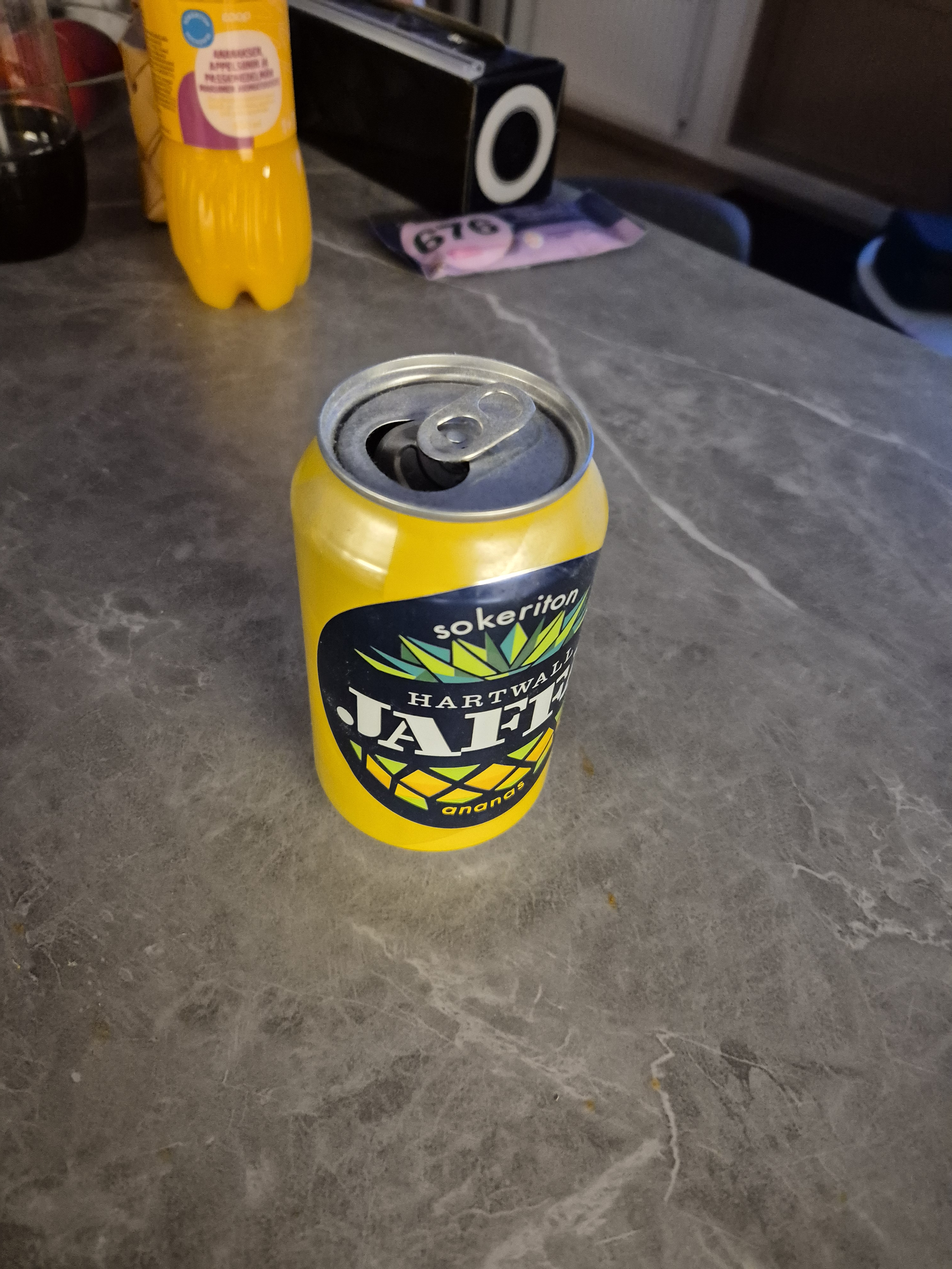Pantburk: (288, 352, 612, 854)
